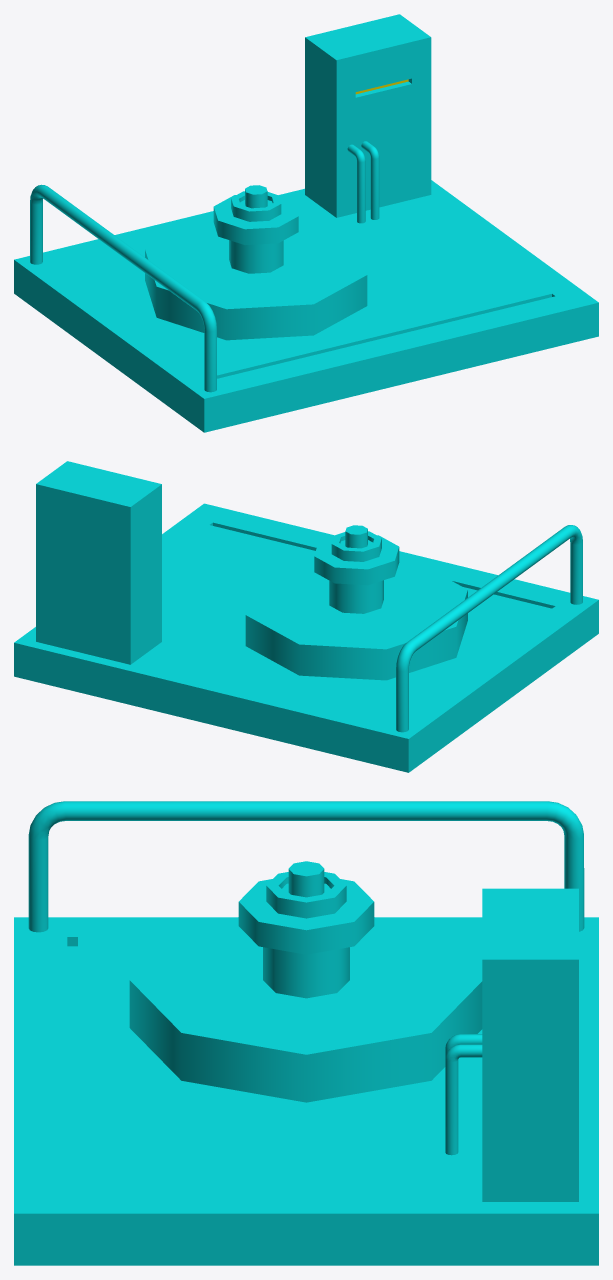
Rendered from OBJ_Generator_Place.fbx.
3 views of the same model, one above another, from view 1: azimuth 30°, elevation 25°; view 2: azimuth 150°, elevation 25°; view 3: azimuth 270°, elevation 25° (orthographic). The views are drawn at different scales.
Parts seen in each view (by area): view 1: OBJ_Generator_Place; view 2: OBJ_Generator_Place; view 3: OBJ_Generator_Place.
Boxes of the visible parts, box(x1,y1,x2,y2) form: OBJ_Generator_Place: box(14, 14, 598, 432); OBJ_Generator_Place: box(14, 461, 598, 772); OBJ_Generator_Place: box(14, 801, 598, 1265).
Size of the model in its own units: 18.46 by 8.56 by 15.4.
